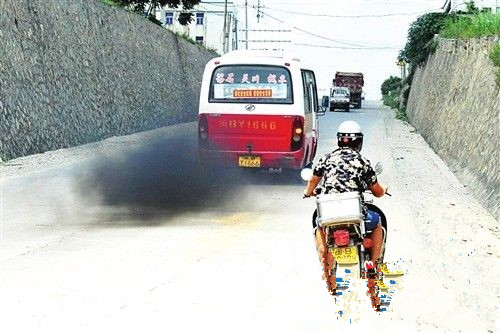smoke: (55, 130, 249, 226)
